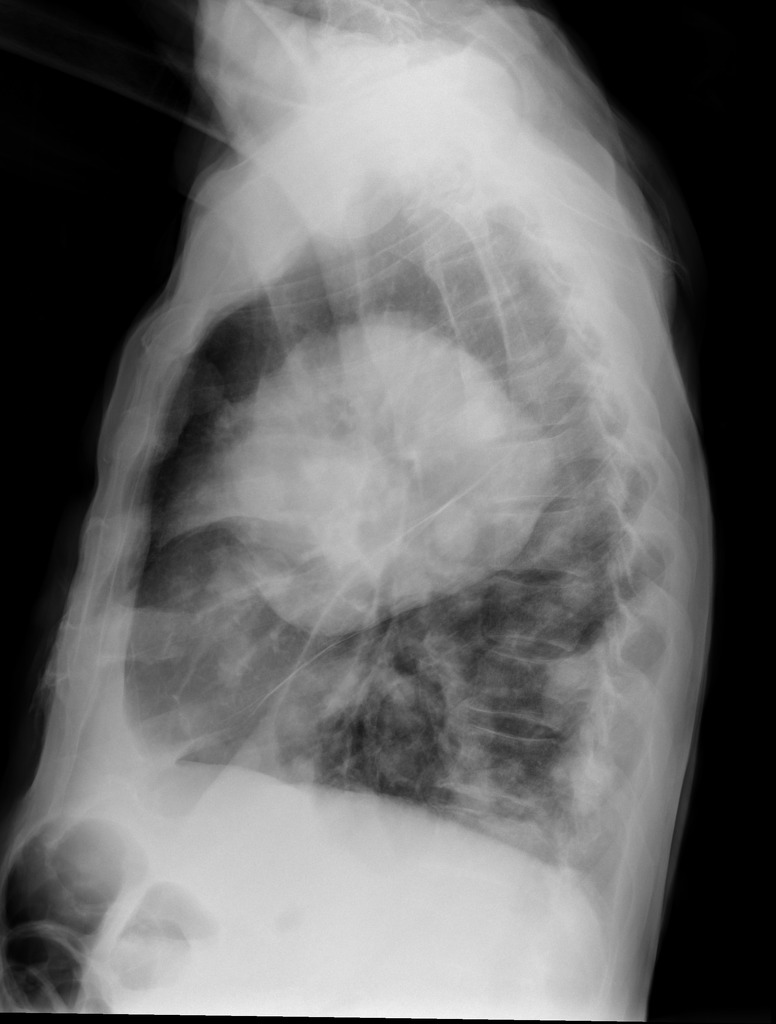cancer: (191, 280, 595, 684)
